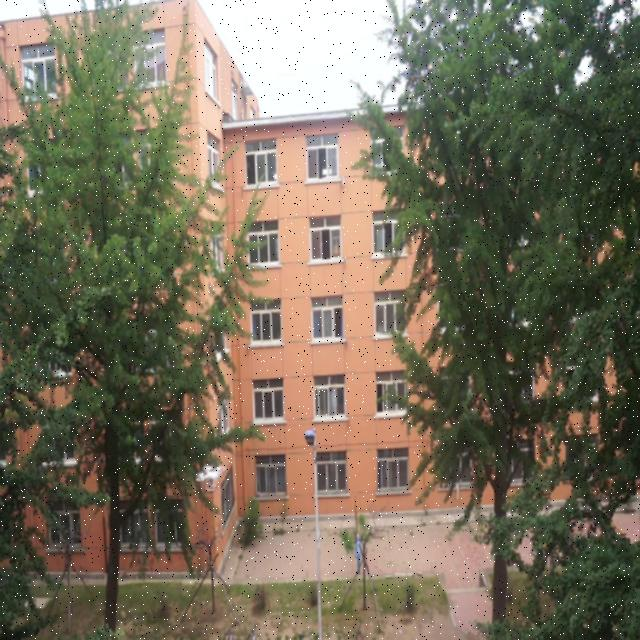UAV: (196, 465, 226, 491)
